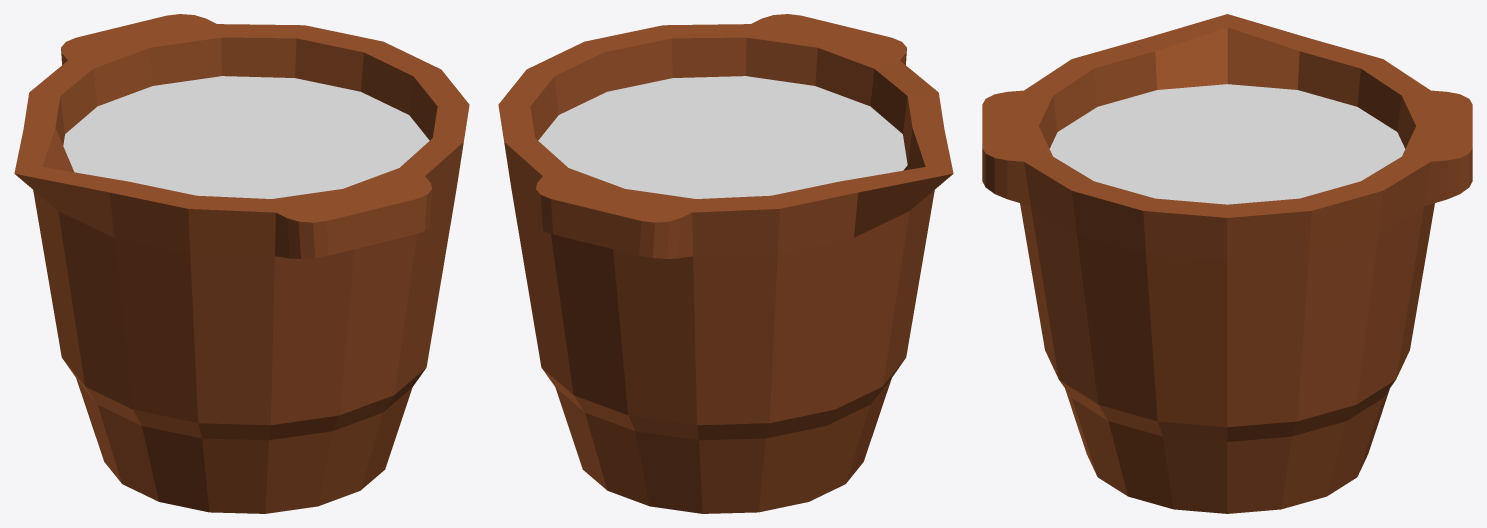
File: balde de cola.fbx
3 views of the same model, side by side, from view 1: azimuth 30°, elevation 25°; view 2: azimuth 150°, elevation 25°; view 3: azimuth 270°, elevation 25° (orthographic). The views are drawn at different scales.
Parts seen in each view (by area): view 1: Cylinder; view 2: Cylinder; view 3: Cylinder.
Part boxes in pixels (x1,y1,x2,y2): Cylinder: [14, 14, 469, 513]; Cylinder: [498, 14, 953, 513]; Cylinder: [982, 14, 1472, 513].
Size of the model in its own units: 97.19 by 73.25 by 98.76.
